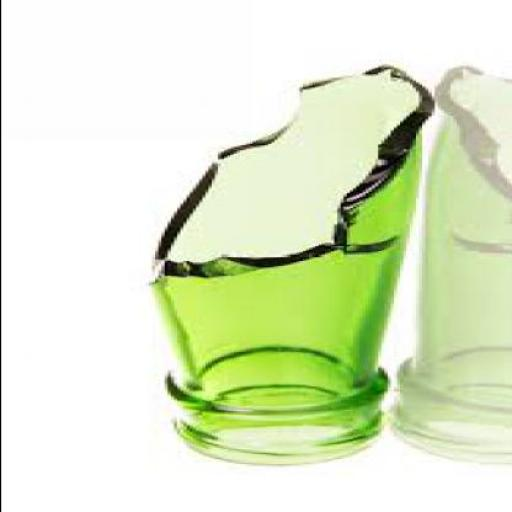glass: (145, 64, 430, 464)
